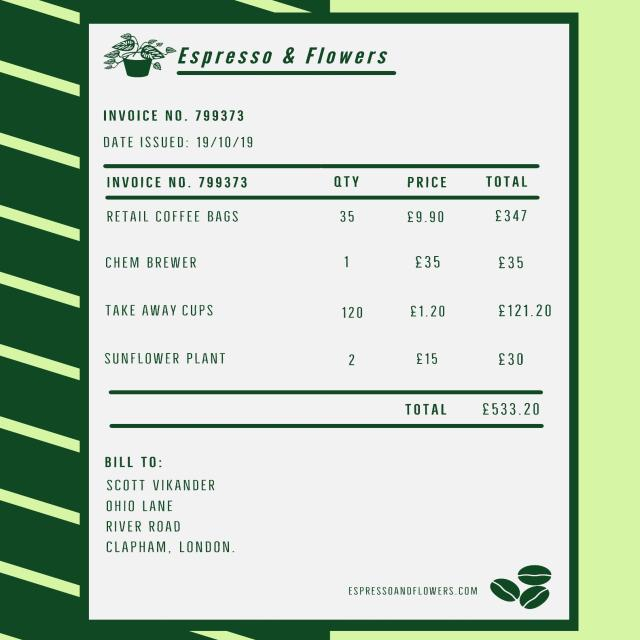paragraph: (101, 453, 249, 560), (101, 105, 262, 155), (175, 44, 408, 72), (400, 399, 548, 419), (346, 583, 482, 600)
table: (100, 161, 559, 382)
